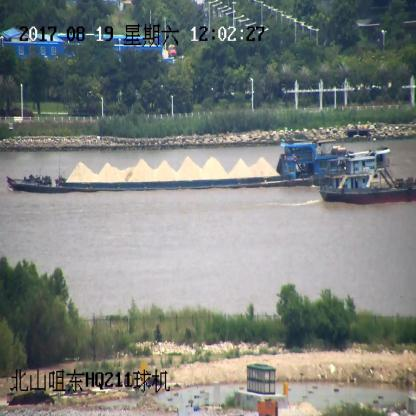Bulk Carrier: (318, 144, 416, 206)
